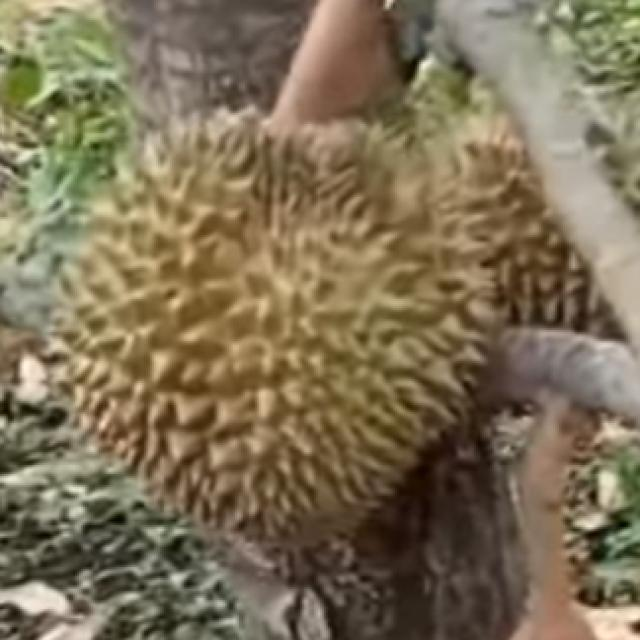mature: (54, 105, 506, 554)
